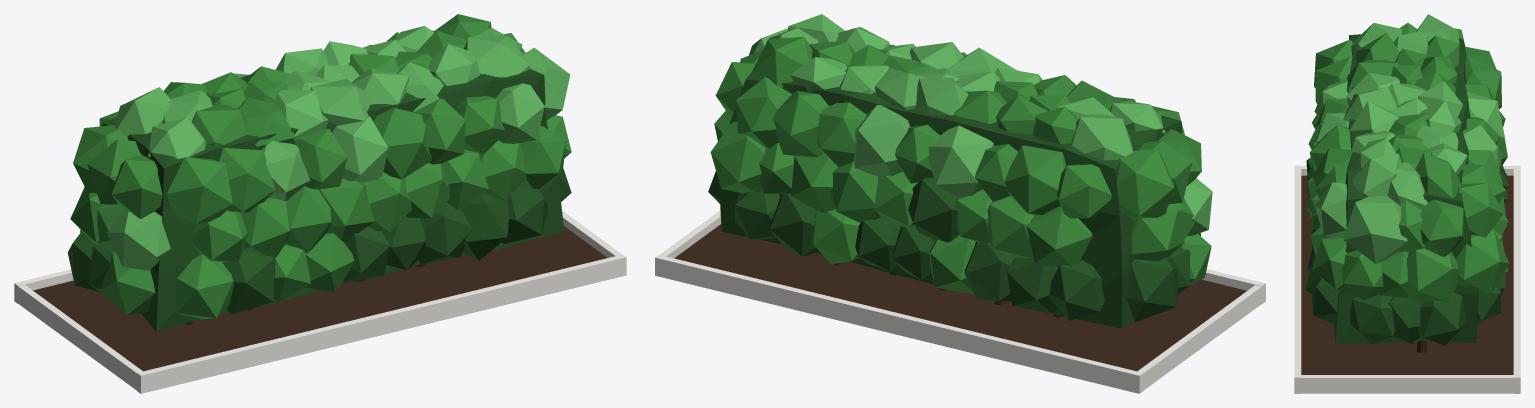
3 views of the same model, side by side, from view 1: azimuth 30°, elevation 25°; view 2: azimuth 150°, elevation 25°; view 3: azimuth 270°, elevation 25° (orthographic). The views are drawn at different scales.
Visible parts, largest first — view 1: crown_lawn_green, crown_lawn_green_light, bed_dark_wood, edging_white_trim, crown_lawn_green_dark, body_lawn_green_dark; view 2: crown_lawn_green, crown_lawn_green_light, bed_dark_wood, crown_lawn_green_dark, edging_white_trim, body_lawn_green_dark; view 3: crown_lawn_green, crown_lawn_green_light, bed_dark_wood, edging_white_trim, crown_lawn_green_dark, body_lawn_green_dark.
Boxes of the visible parts, x1,y1,x2,y2 form: crown_lawn_green: [70, 14, 571, 319]; crown_lawn_green_light: [106, 26, 570, 270]; bed_dark_wood: [33, 226, 606, 371]; edging_white_trim: [14, 210, 626, 393]; crown_lawn_green_dark: [67, 168, 571, 314]; body_lawn_green_dark: [80, 45, 564, 331]; crown_lawn_green: [710, 37, 1211, 294]; crown_lawn_green_light: [749, 14, 1212, 235]; bed_dark_wood: [674, 224, 1246, 371]; crown_lawn_green_dark: [708, 171, 1190, 322]; edging_white_trim: [655, 210, 1265, 393]; body_lawn_green_dark: [719, 46, 1200, 328]; crown_lawn_green: [1306, 23, 1509, 302]; crown_lawn_green_light: [1313, 14, 1505, 263]; bed_dark_wood: [1301, 175, 1513, 374]; edging_white_trim: [1294, 165, 1520, 393]; crown_lawn_green_dark: [1305, 158, 1508, 345]; body_lawn_green_dark: [1334, 34, 1478, 344].
Size of the model in its own units: 2.52 by 1.11 by 1.13.
